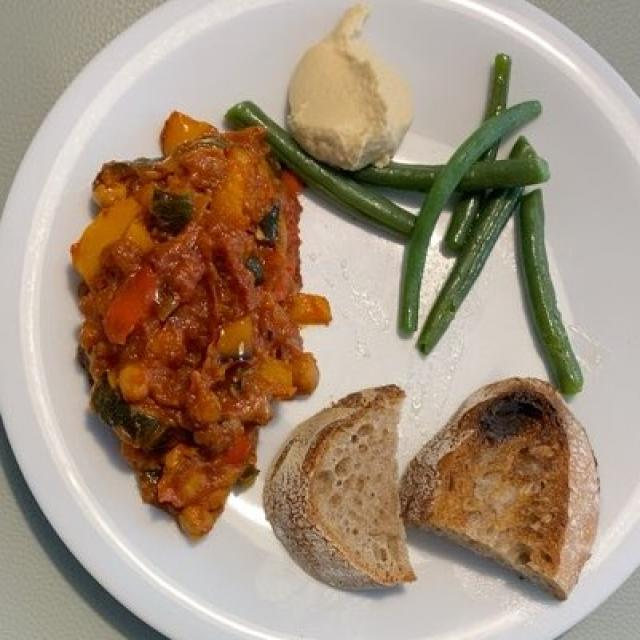bread-whole-wheat: (273, 384, 606, 602)
french-beans: (231, 52, 580, 391)
ratatouille: (76, 124, 315, 534)
